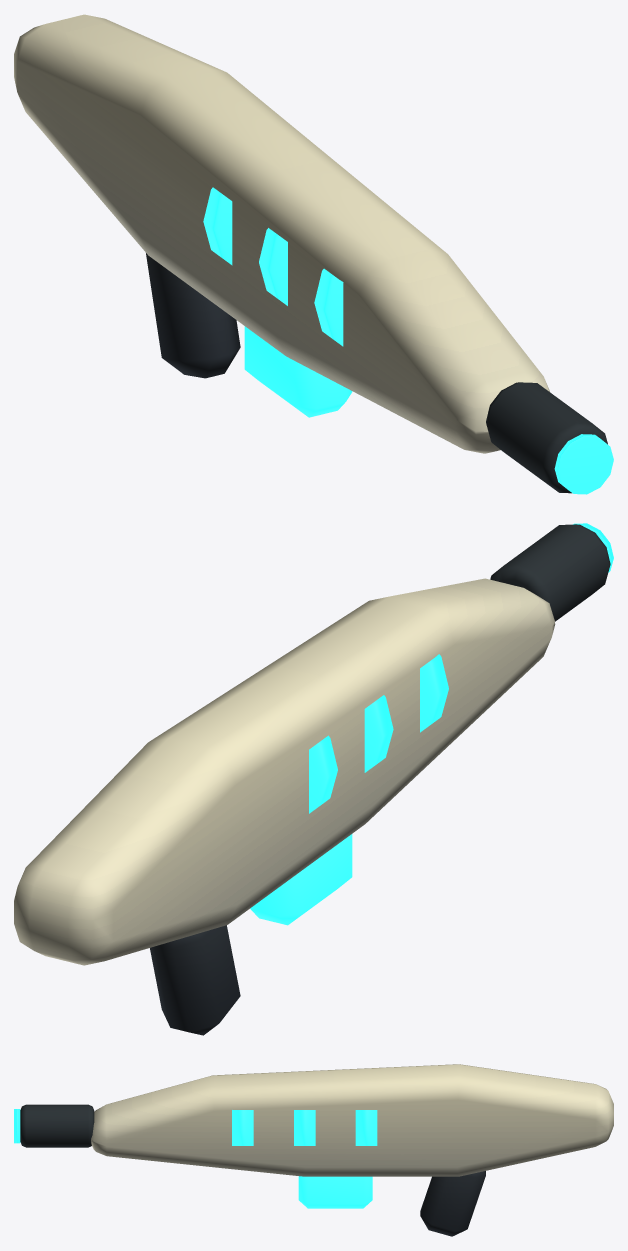
File: weapon_laser.glb
The picture shows the model from 3 angles, top to bottom: view 1: azimuth 30°, elevation 25°; view 2: azimuth 150°, elevation 25°; view 3: azimuth 270°, elevation 25°; orthographic projection. The views are drawn at different scales.
Parts seen in each view (by area): view 1: Laser body, Pistol grip.010, Emitter, Power cell, Emitter lens, Focus coil.002, Focus coil, Focus coil.001; view 2: Laser body, Pistol grip.010, Emitter, Power cell, Focus coil.001, Focus coil.002, Focus coil; view 3: Laser body, Emitter, Pistol grip.010, Power cell, Focus coil, Focus coil.001, Focus coil.002.
Boxes of the visible parts, <box> form: Laser body: <box>14,14,549,453</box>; Pistol grip.010: <box>146,253,240,378</box>; Emitter: <box>486,382,607,493</box>; Power cell: <box>244,326,352,417</box>; Emitter lens: <box>554,434,613,494</box>; Focus coil.002: <box>314,268,343,346</box>; Focus coil: <box>203,187,232,265</box>; Focus coil.001: <box>259,228,287,305</box>; Laser body: <box>14,578,555,965</box>; Pistol grip.010: <box>150,925,240,1035</box>; Emitter: <box>490,524,610,621</box>; Power cell: <box>250,834,352,925</box>; Focus coil.001: <box>364,695,393,772</box>; Focus coil.002: <box>420,654,448,732</box>; Focus coil: <box>309,735,337,813</box>; Laser body: <box>91,1064,613,1176</box>; Emitter: <box>20,1104,94,1147</box>; Pistol grip.010: <box>420,1171,485,1236</box>; Power cell: <box>298,1176,372,1208</box>; Focus coil: <box>355,1110,377,1145</box>; Focus coil.001: <box>294,1110,315,1145</box>; Focus coil.002: <box>232,1110,253,1145</box>.
Size of the model in its own units: 0.12 by 0.2928 by 0.97.
4 materials, 3 textured.
